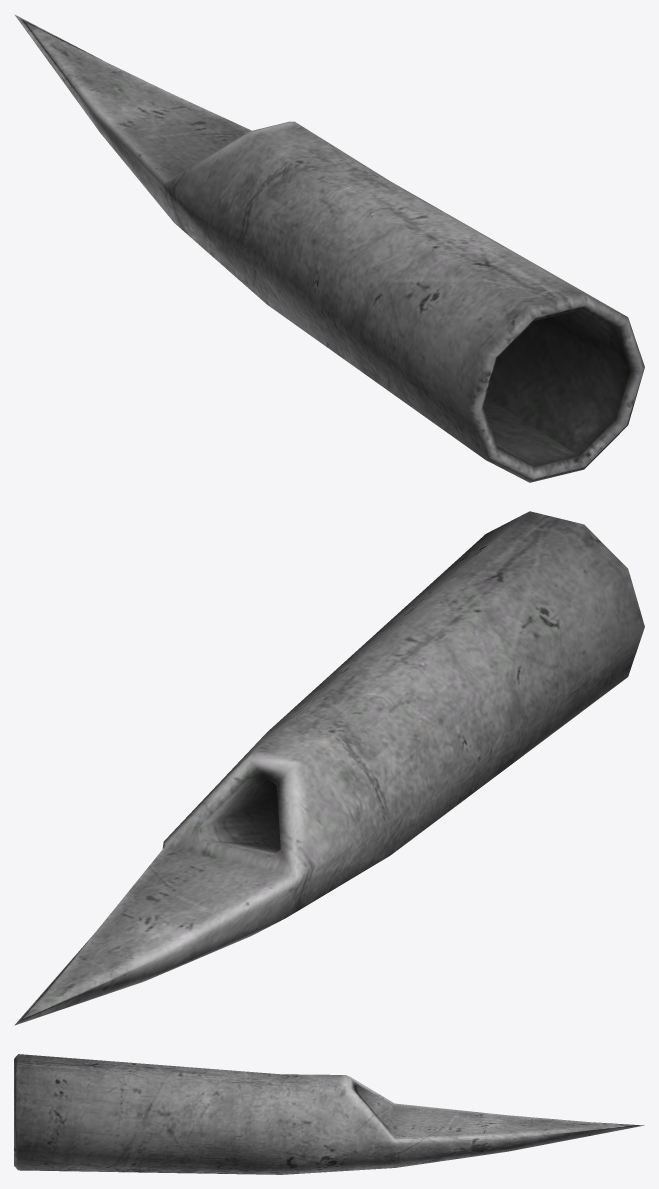
Rendered from hollow_needle.dae.
The picture shows the model from 3 angles, top to bottom: view 1: azimuth 30°, elevation 25°; view 2: azimuth 150°, elevation 25°; view 3: azimuth 270°, elevation 25°; orthographic projection. The views are drawn at different scales.
Visible parts, largest first — view 1: hollow_needle; view 2: hollow_needle; view 3: hollow_needle.
Part boxes in pixels (<box>): hollow_needle: <box>14,14,644,482</box>; hollow_needle: <box>14,511,644,1025</box>; hollow_needle: <box>14,1054,644,1174</box>.
Size of the model in its own units: 0.0372 by 0.0373 by 0.2.
